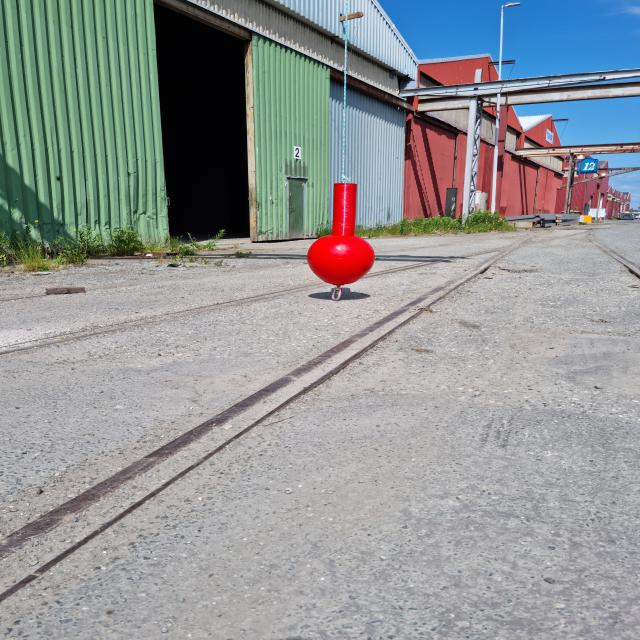red: (306, 184, 376, 285)
